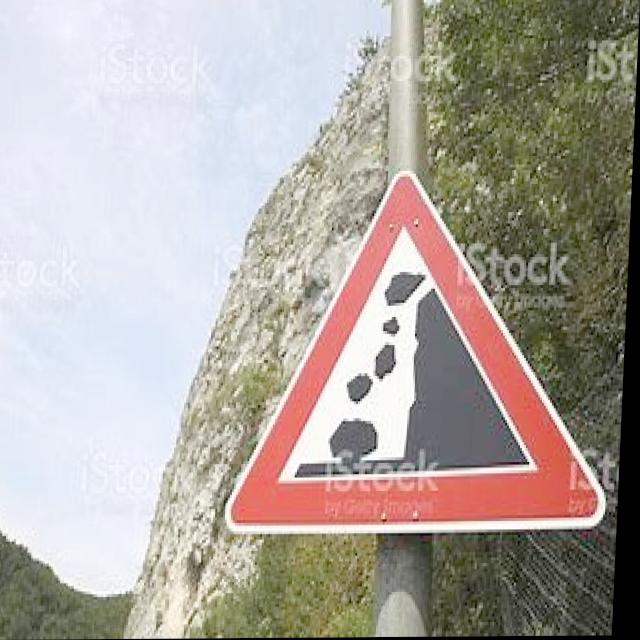FALLING_ROCKS: (228, 167, 623, 541)
